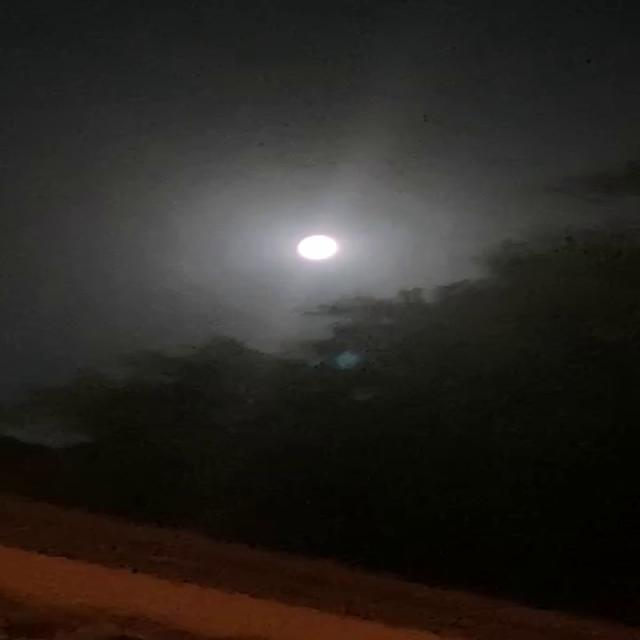moon: (289, 232, 346, 262)
